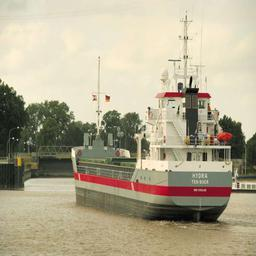Ship: (69, 66, 238, 225)
